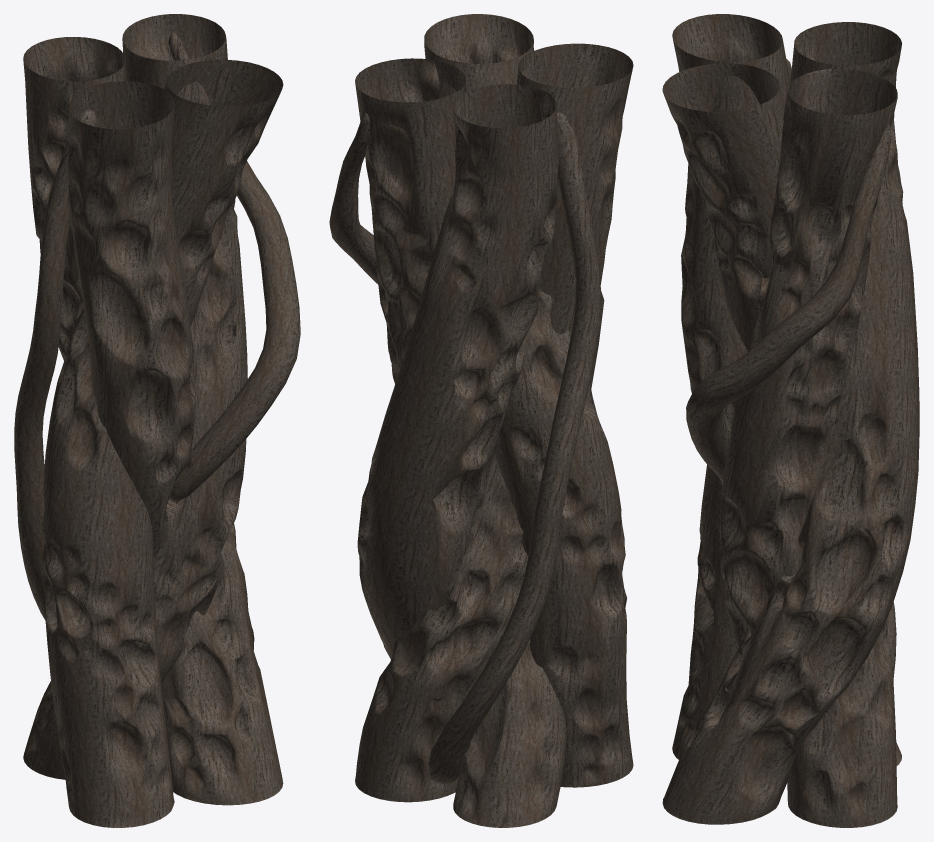
The model's file is SM_BigTree003.fbx.
3 views of the same model, side by side, from view 1: azimuth 30°, elevation 25°; view 2: azimuth 150°, elevation 25°; view 3: azimuth 270°, elevation 25° (orthographic).
Visible parts, largest first — view 1: SM_BigTree003; view 2: SM_BigTree003; view 3: SM_BigTree003.
Boxes of the visible parts, <box> form: SM_BigTree003: <box>14,14,300,827</box>; SM_BigTree003: <box>329,14,633,827</box>; SM_BigTree003: <box>662,14,919,827</box>.
Bounding box in the file's own units: 3035 × 8000 × 2615.
